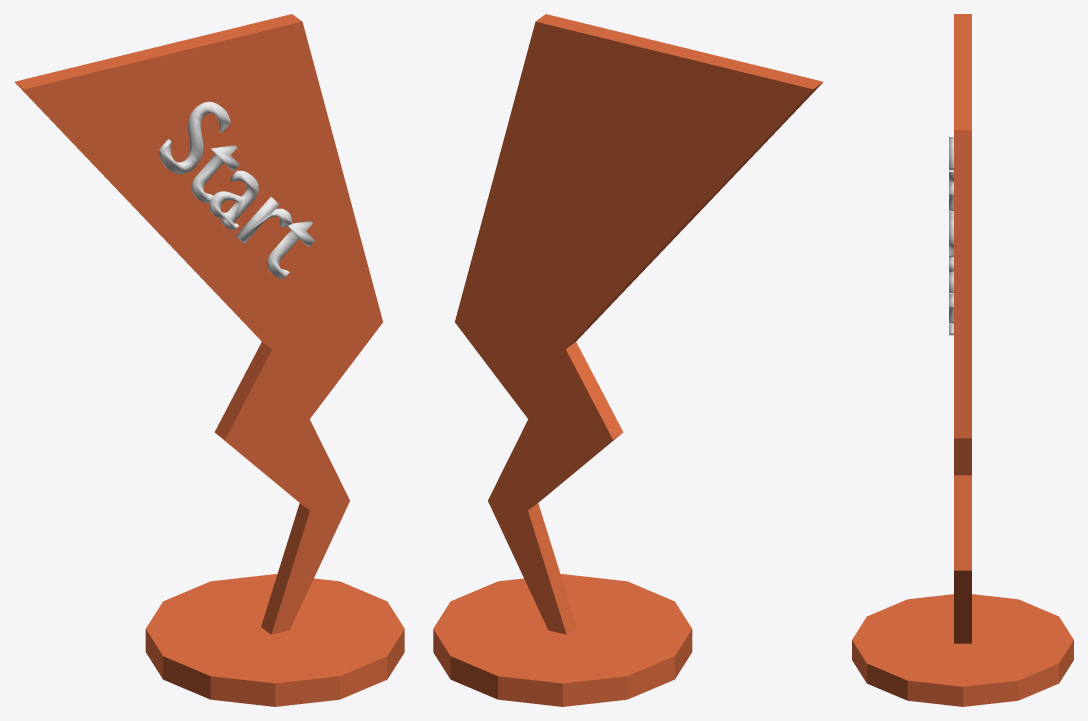
The model's file is Spawn.glb.
3 views of the same model, side by side, from view 1: azimuth 30°, elevation 25°; view 2: azimuth 150°, elevation 25°; view 3: azimuth 270°, elevation 25° (orthographic). The views are drawn at different scales.
Visible parts, largest first — view 1: Start; view 2: Start; view 3: Start.
Part boxes in pixels (x1,y1,x2,y2): Start: (14,14,404,706); Start: (433,14,823,706); Start: (852,14,1073,706).
Bounding box in the file's own units: 1.64 × 2.68 × 1.
